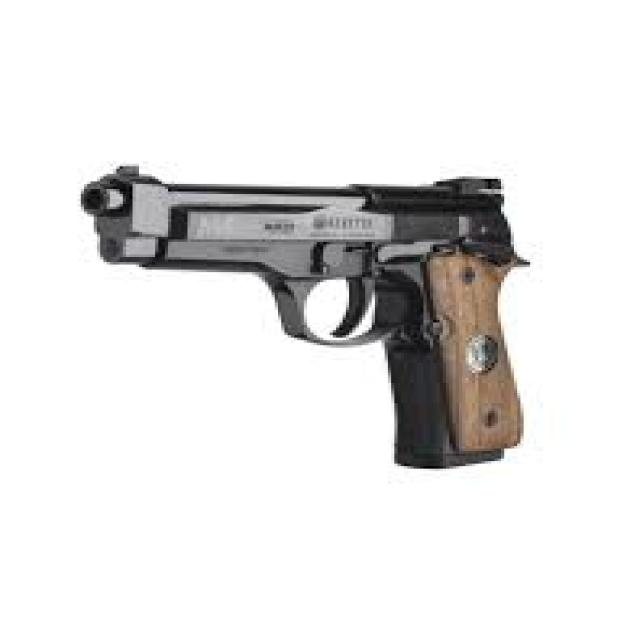pistol: (79, 162, 531, 476)
